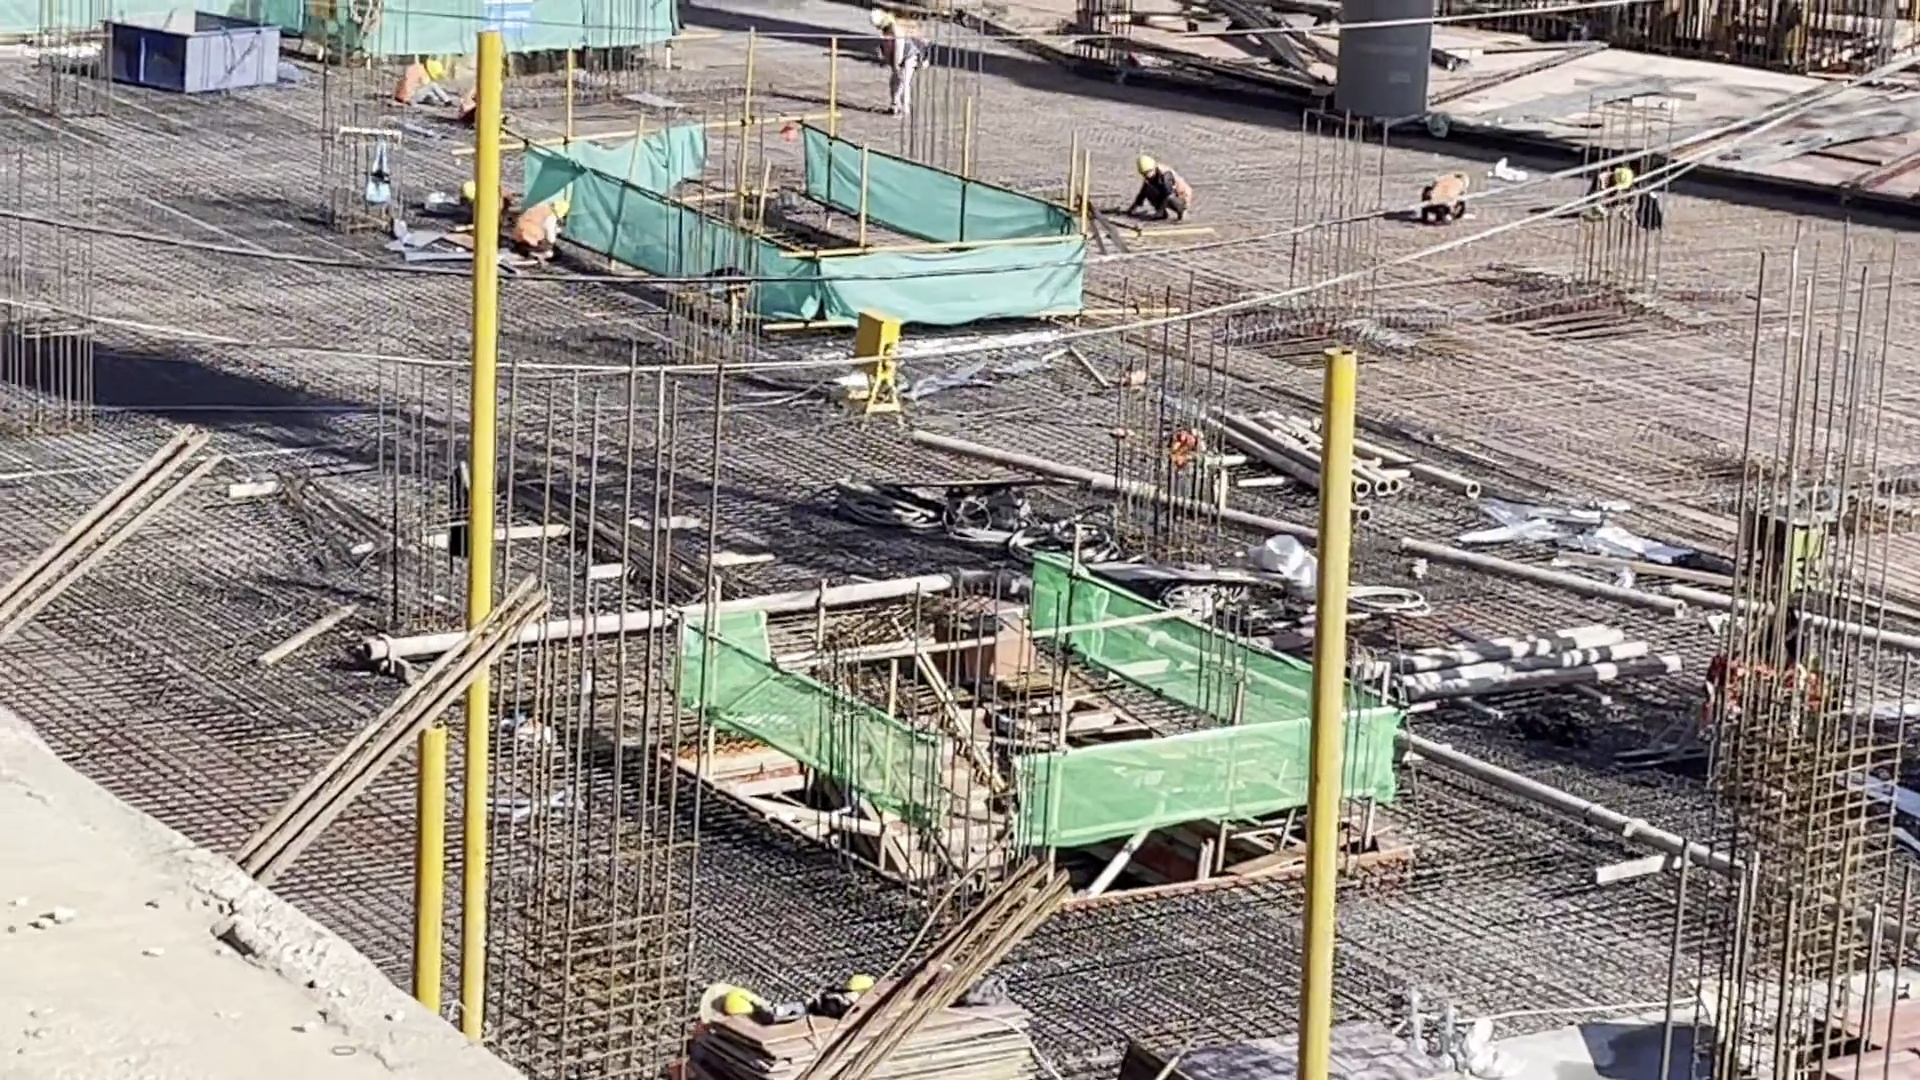board: (723, 1011, 1025, 1080)
ebox: (854, 312, 900, 407)
helmet: (424, 57, 444, 83), (551, 198, 567, 226), (1136, 155, 1155, 175), (1613, 167, 1631, 186)
hopper: (104, 14, 282, 93)
person: (869, 11, 923, 120), (1135, 153, 1197, 234), (508, 195, 571, 260), (389, 57, 454, 116), (1413, 165, 1474, 227)
slogan: (473, 3, 533, 33)
vest: (515, 204, 554, 251), (400, 66, 425, 106), (1429, 173, 1459, 203)
